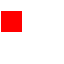square: (1, 11, 21, 31)
